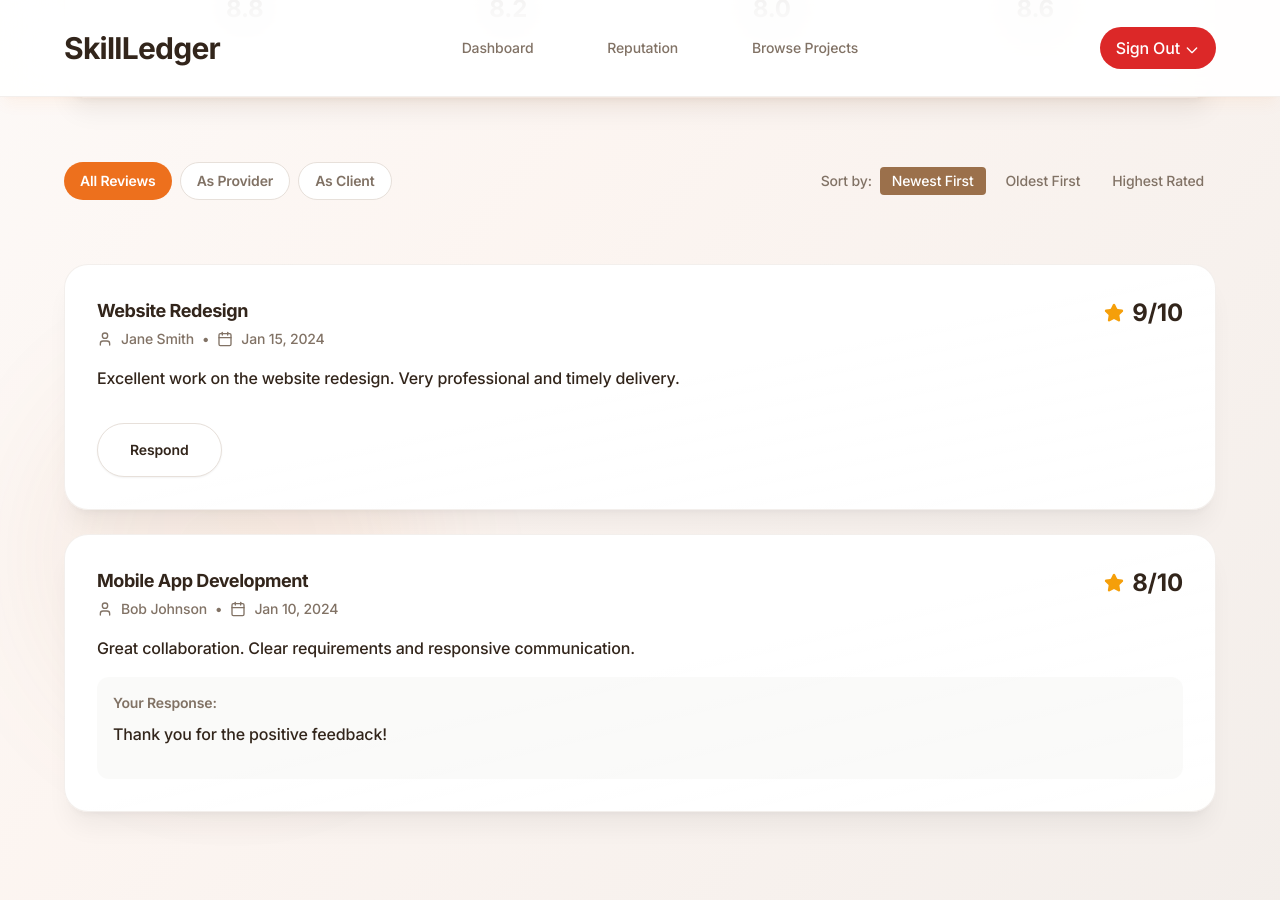
it: ReviewsPage Integration Tests › Error Handling › handles response submission error
(page scrolled)
Step 1. Click the button "Respond" → (159, 450), box left=97, top=423, right=222, bottom=477
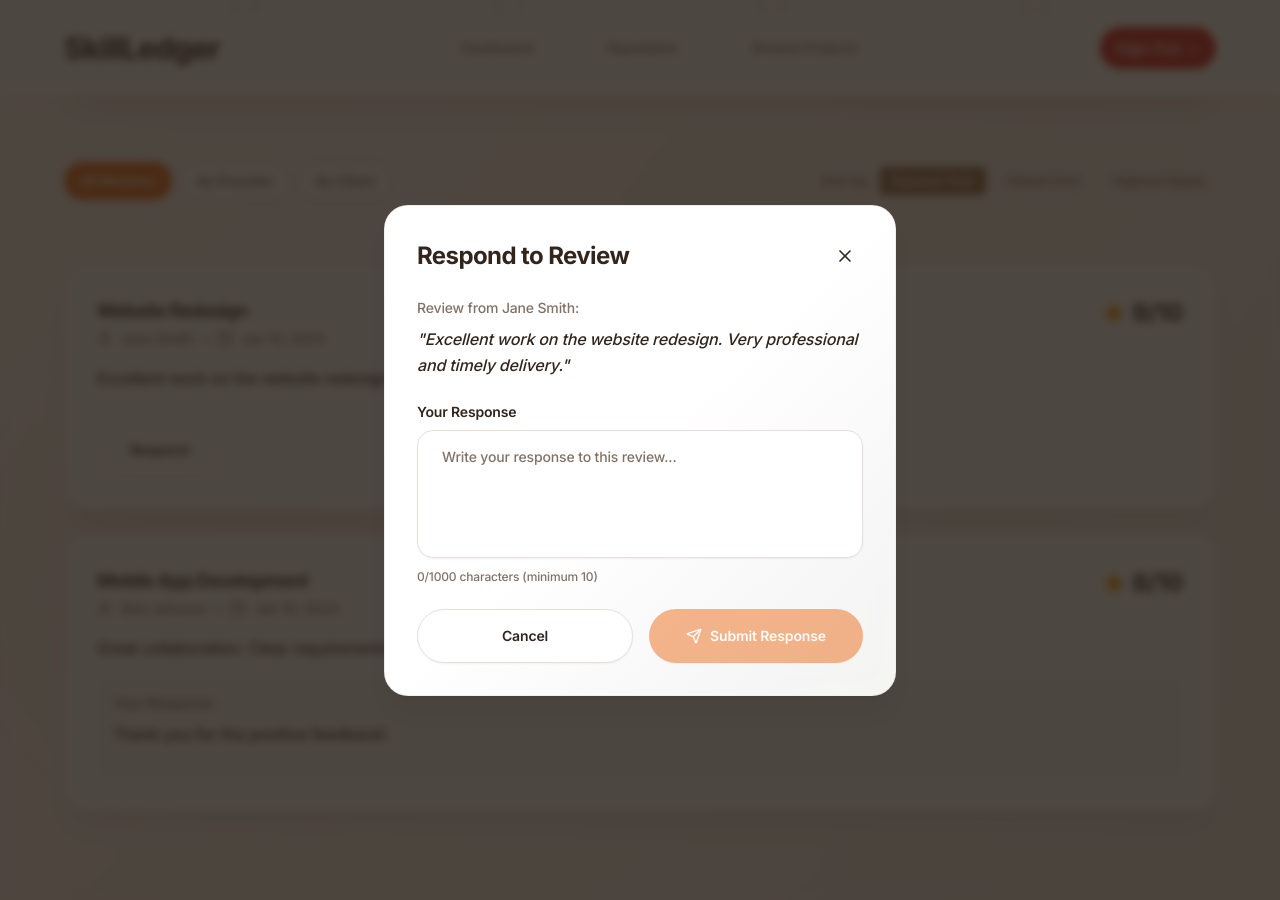
Expected: the text box with placeholder "Write your response to this review..." is shown
Step 2. Type "Thank you!" into the text box with placeholder "Write your response to this review..." → (640, 494), box left=417, top=430, right=863, bottom=558
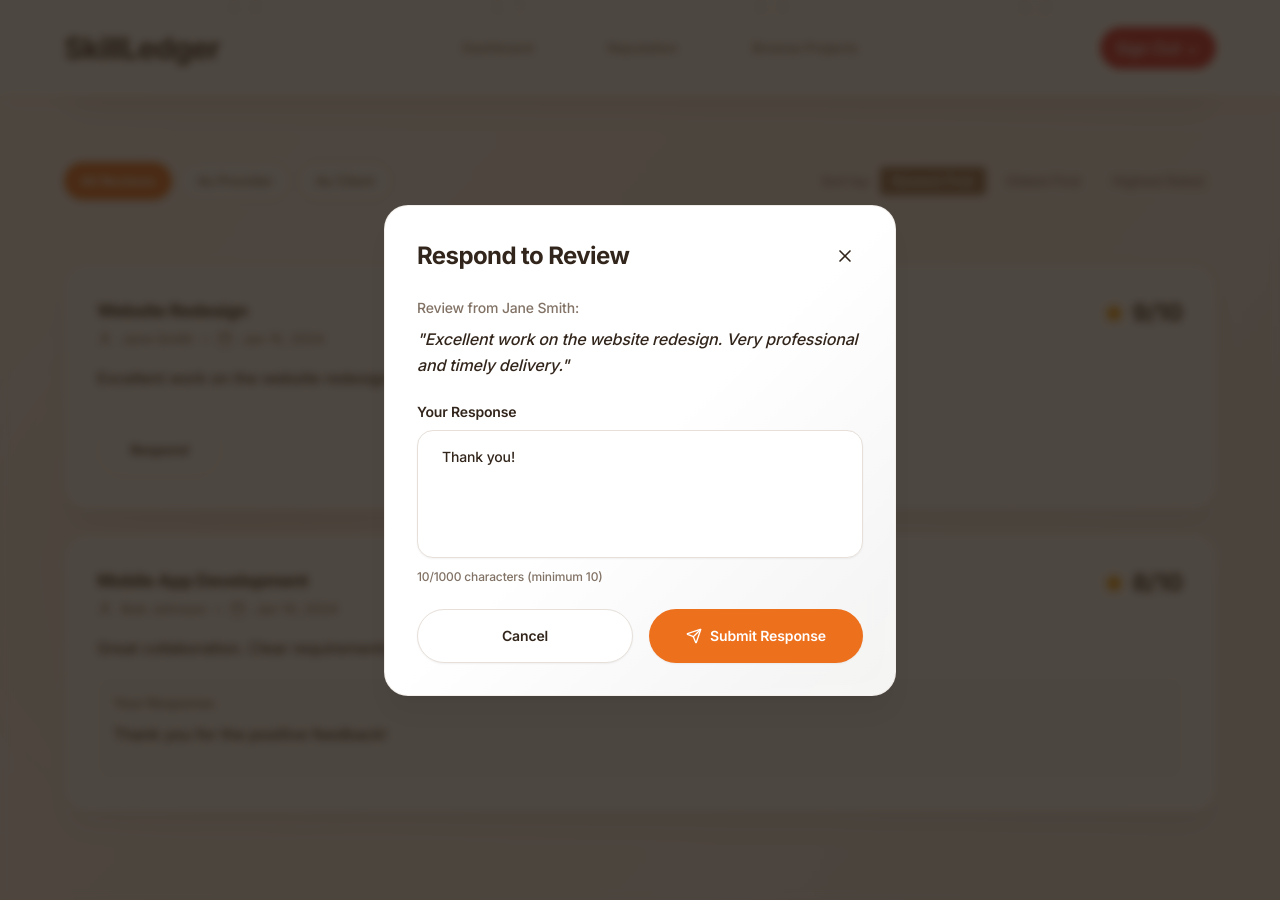
Step 3. Click the button "Submit Response" → (756, 636), box left=649, top=608, right=863, bottom=662
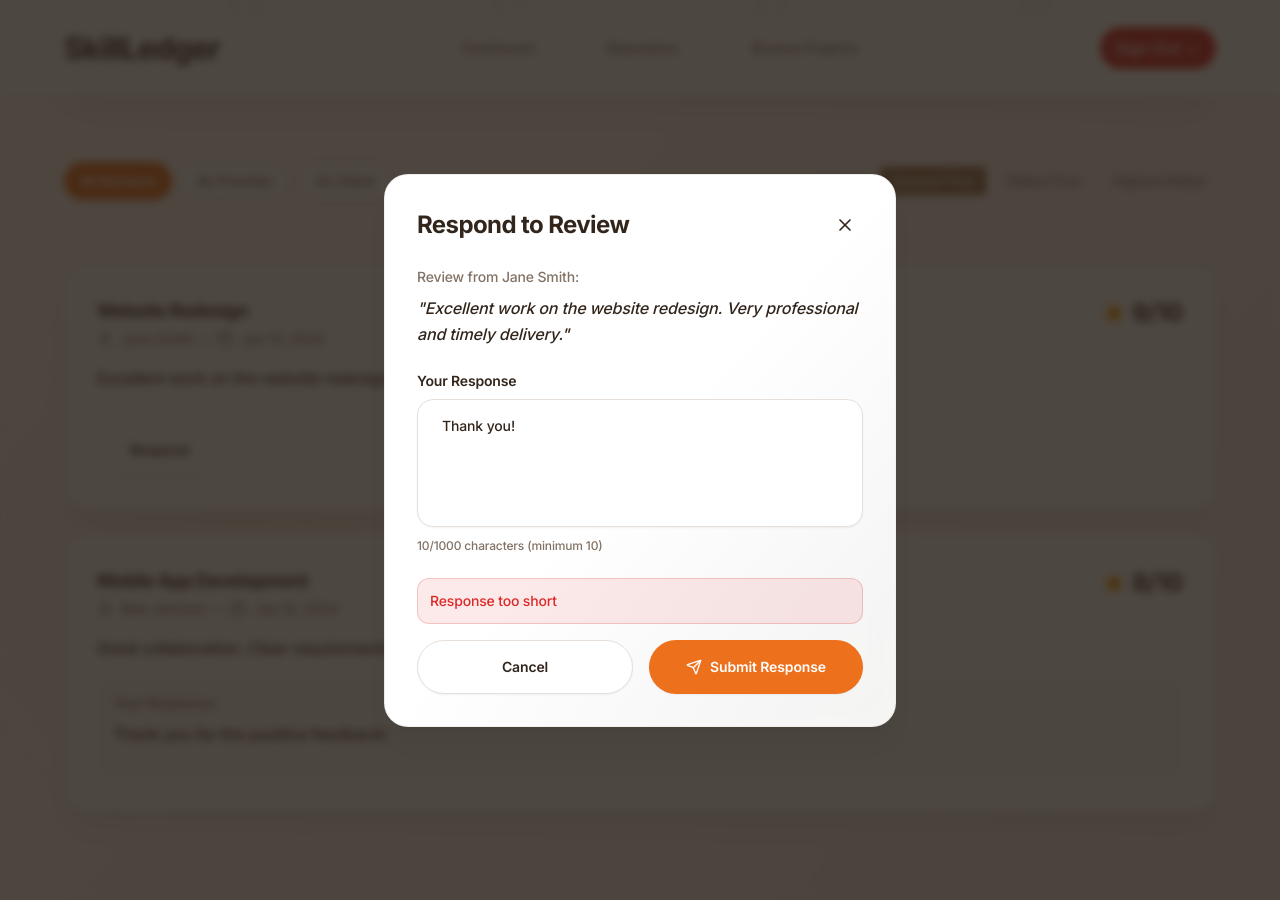
Expected: the text "Response too short" is shown, left=417, top=578, right=863, bottom=624
